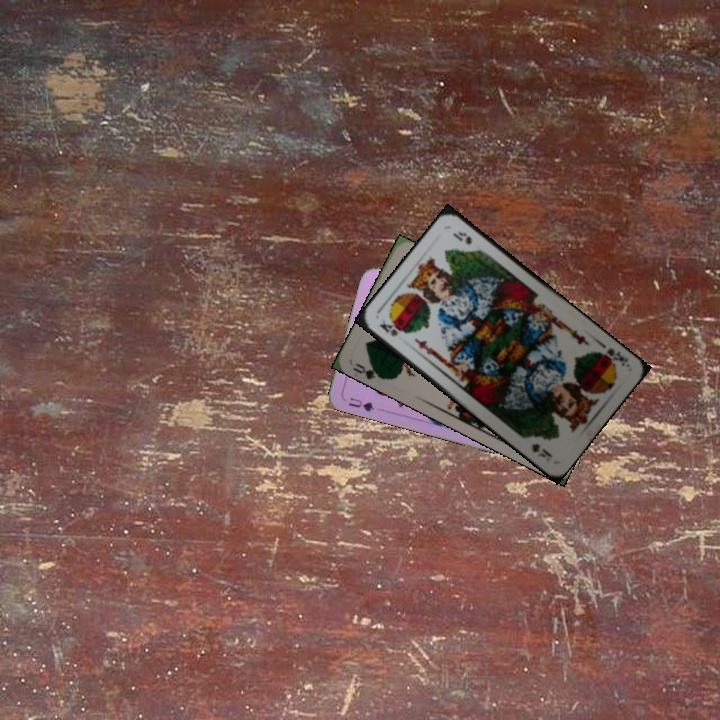GO: (348, 359, 388, 382)
GU: (345, 393, 377, 414)
SK: (594, 344, 631, 369), (375, 316, 404, 339)
